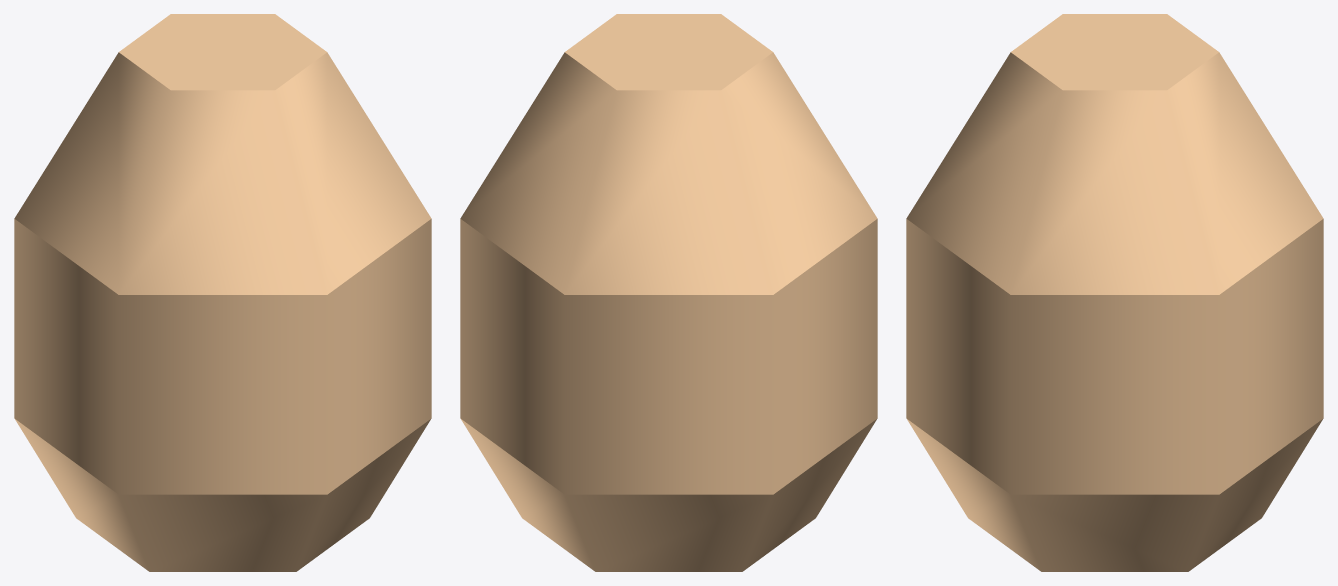
Rendered from egg.obj.
3 views of the same model, side by side, from view 1: azimuth 30°, elevation 25°; view 2: azimuth 150°, elevation 25°; view 3: azimuth 270°, elevation 25° (orthographic).
Visible parts, largest first — view 1: egg; view 2: egg; view 3: egg.
Part boxes in pixels (x1,y1,x2,y2): egg: [14, 14, 431, 571]; egg: [460, 14, 877, 571]; egg: [906, 14, 1323, 571].
Bounding box in the file's own units: 0.1161 × 0.1652 × 0.134.
